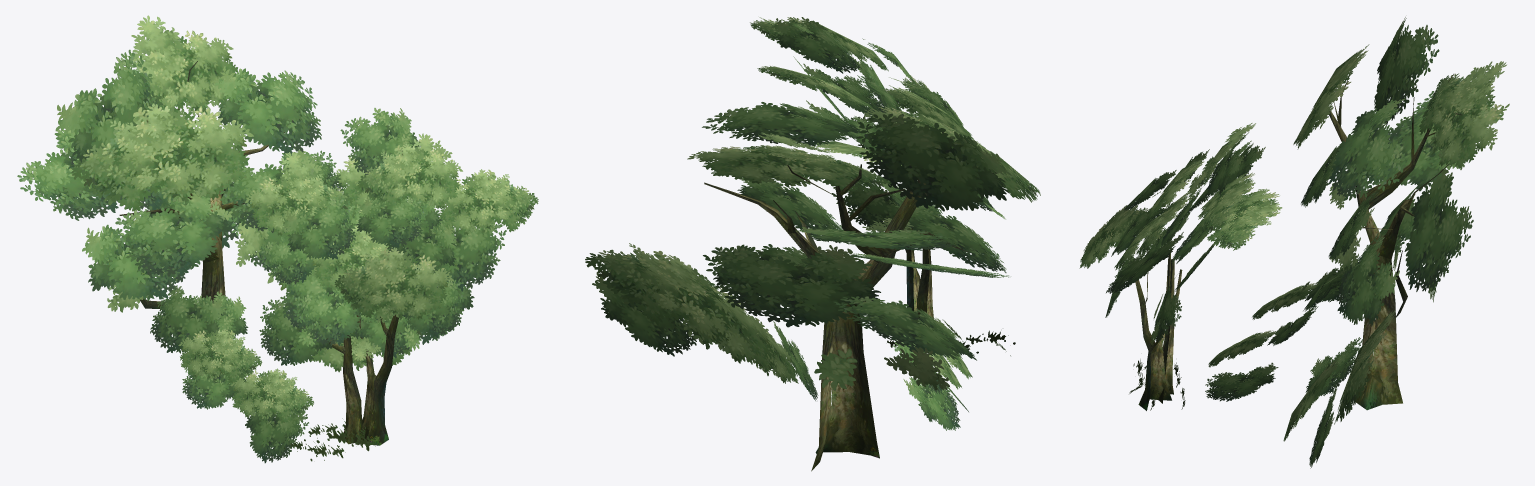
File: shu_04.FBX
3 views of the same model, side by side, from view 1: azimuth 30°, elevation 25°; view 2: azimuth 150°, elevation 25°; view 3: azimuth 270°, elevation 25° (orthographic). The views are drawn at different scales.
Parts seen in each view (by area): view 1: shu_04; view 2: shu_04; view 3: shu_04.
Boxes of the visible parts, x1,y1,x2,y2 form: shu_04: (17, 15, 538, 463); shu_04: (585, 17, 1040, 471); shu_04: (1079, 17, 1509, 468).
Bounding box in the file's own units: 1148 × 952 × 1072.
